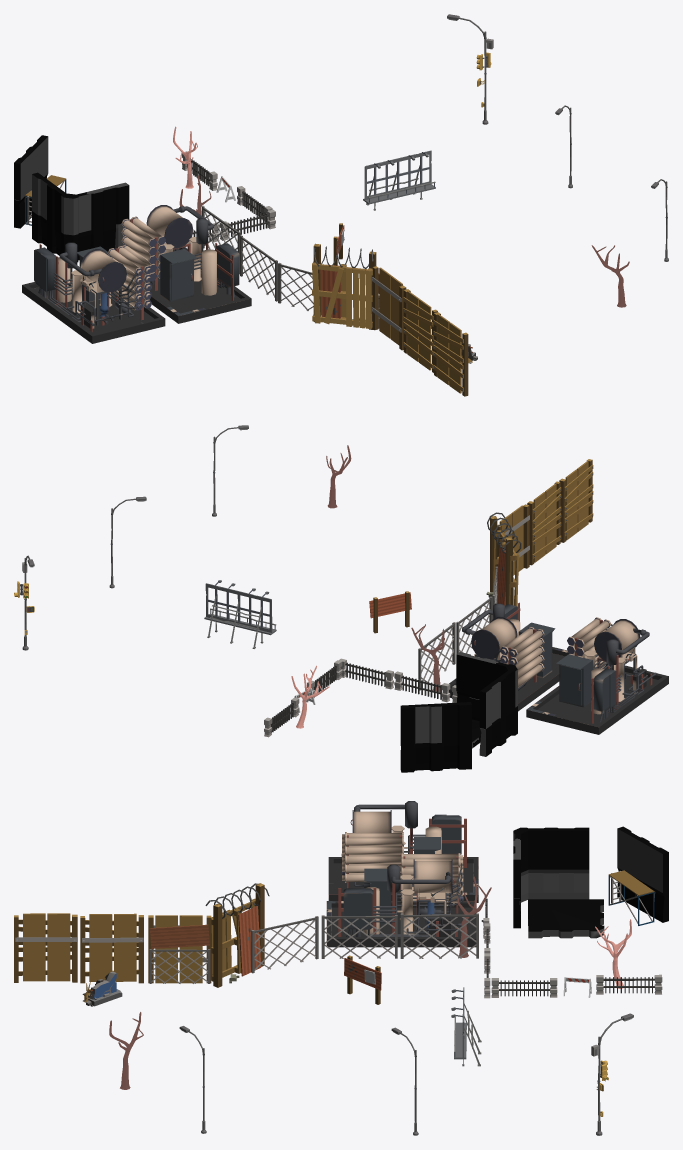
File: passive2.gltf
3 views of the same model, one above another, from view 1: azimuth 30°, elevation 25°; view 2: azimuth 150°, elevation 25°; view 3: azimuth 270°, elevation 25° (orthographic). The views are drawn at different scales.
Visible parts, largest first — view 1: HighVolt.001, HighVolt, ruines, barrièrebarbelé, barrièrebois1, barrièrebois3, barrièrebois2, panneauaffichagecassé, grillage2, barrièrepascassée02, lampadairefeu, grillage1 (+1 smaller); view 2: ruines, HighVolt.001, HighVolt, barrièrebarbelé, barrièrebois1, barrièrebois2, panneauaffichagecassé, barrièrebois3, panneauquête, grillage3, barrièrepascassée01, barrièrepascassée02 (+4 smaller); view 3: ruines, HighVolt, HighVolt.001, barrièrebois3, barrièrebois1, barrièrebois2, barrièrebarbelé, grillage3, grillage2, grillage1, echaffaudage, panneauaffichagecassé (+8 smaller).
Part boxes in pixels (x1=…): HighVolt.001: x1=22, y1=242, x2=165, y2=343; HighVolt: x1=121, y1=205, x2=251, y2=323; ruines: x1=14, y1=135, x2=129, y2=262; barrièrebarbelé: x1=312, y1=243, x2=376, y2=329; barrièrebois1: x1=433, y1=312, x2=468, y2=396; barrièrebois3: x1=372, y1=266, x2=406, y2=350; barrièrebois2: x1=403, y1=289, x2=437, y2=372; panneauaffichagecassé: x1=363, y1=150, x2=435, y2=210; grillage2: x1=240, y1=235, x2=277, y2=301; barrièrepascassée02: x1=219, y1=209, x2=275, y2=240; lampadairefeu: x1=447, y1=14, x2=493, y2=124; grillage1: x1=278, y1=262, x2=313, y2=310; ruines: x1=400, y1=652, x2=517, y2=772; HighVolt.001: x1=526, y1=617, x2=668, y2=734; HighVolt: x1=449, y1=602, x2=569, y2=711; barrièrebarbelé: x1=486, y1=512, x2=521, y2=606; barrièrebois1: x1=559, y1=459, x2=593, y2=542; barrièrebois2: x1=527, y1=481, x2=561, y2=565; panneauaffichagecassé: x1=204, y1=580, x2=276, y2=648; barrièrebois3: x1=497, y1=504, x2=529, y2=575; panneauquête: x1=369, y1=591, x2=411, y2=633; grillage3: x1=418, y1=622, x2=455, y2=690; barrièrepascassée01: x1=394, y1=671, x2=450, y2=702; barrièrepascassée02: x1=338, y1=658, x2=393, y2=689; ruines: x1=513, y1=826, x2=668, y2=938; HighVolt: x1=326, y1=853, x2=476, y2=947; HighVolt.001: x1=328, y1=801, x2=478, y2=902; barrièrebois3: x1=148, y1=915, x2=211, y2=983; barrièrebois1: x1=14, y1=913, x2=77, y2=982; barrièrebois2: x1=80, y1=913, x2=143, y2=983; barrièrebarbelé: x1=205, y1=883, x2=269, y2=987; grillage3: x1=400, y1=913, x2=478, y2=958; grillage2: x1=321, y1=915, x2=397, y2=958; grillage1: x1=251, y1=916, x2=318, y2=973; echaffaudage: x1=608, y1=870, x2=654, y2=925; panneauaffichagecassé: x1=451, y1=987, x2=481, y2=1066.
Bounding box in the file's own units: 80.13 × 15.32 × 80.66.
8 materials, 6 textured.
